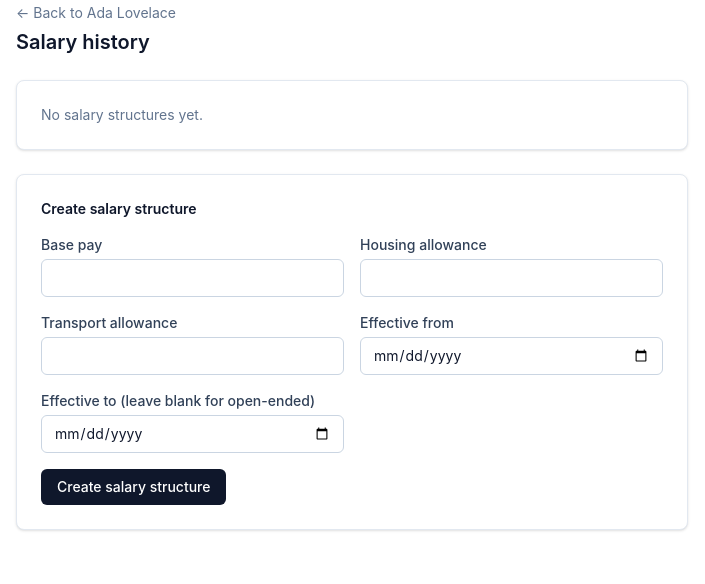
SalaryHistoryPage (HR_ADMIN) › shows the 409 overlap error returned by the API
expect the text "No salary structures yet." is shown: met, box [41,106,203,123]
Type "5000" into the number field labelled "Base pay".
click(192, 278); type("5000")  # box [41,259,344,297]
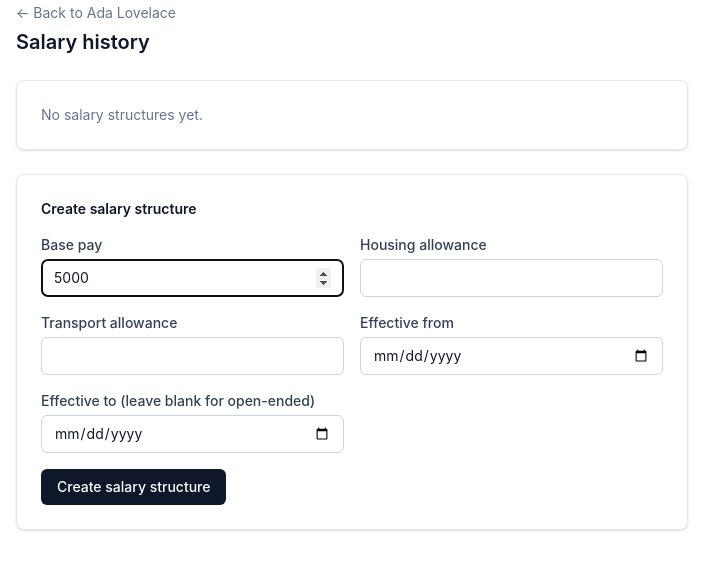
Type "2026-01-01" into the date field labelled "Effective from".
click(512, 356); type("2026-01-01")  # box [360,337,663,375]
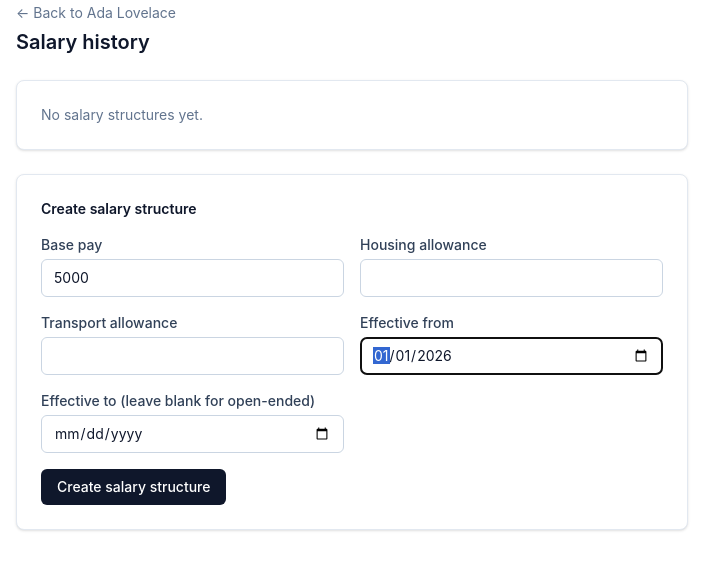
Click the button "Create salary structure".
click(134, 487)  # box [41,469,226,505]
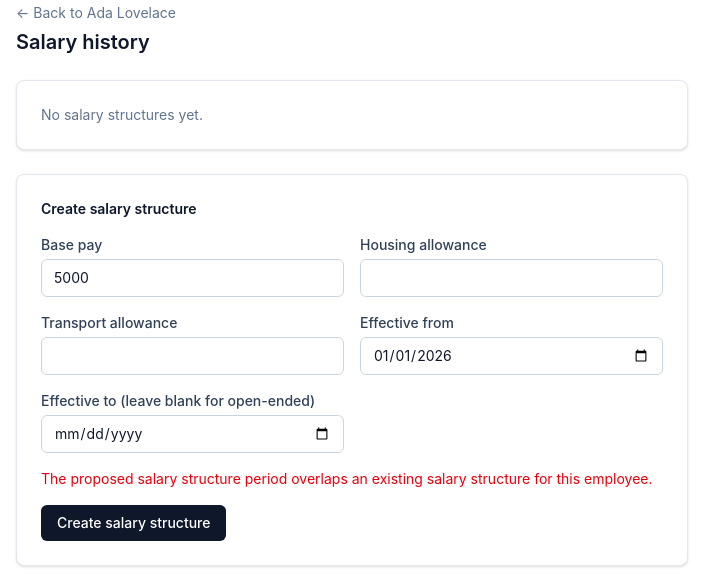
expect the text "The proposed salary structure period overlaps an existing salary structure for this employee." is shown: met, box [41,470,652,487]
